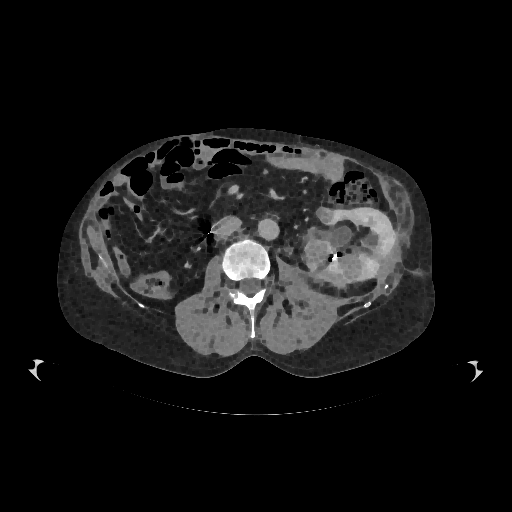Lesion: (300, 241, 329, 270)
